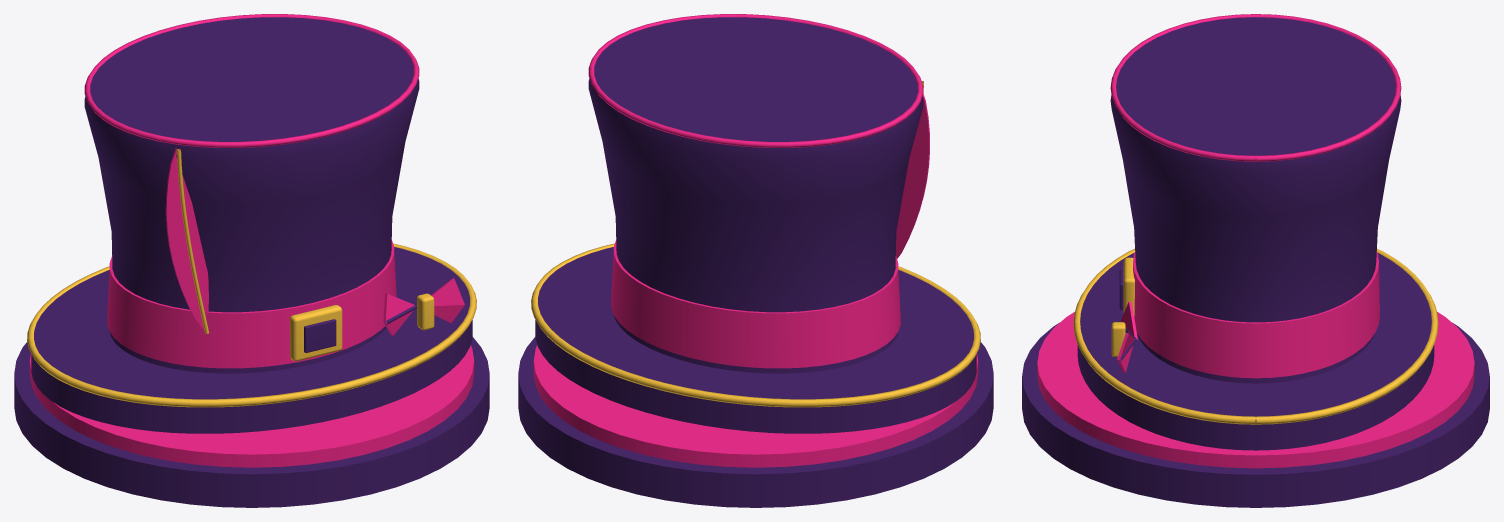
File: desk.hat.top-hat.glb
3 views of the same model, side by side, from view 1: azimuth 30°, elevation 25°; view 2: azimuth 150°, elevation 25°; view 3: azimuth 270°, elevation 25° (orthographic).
Parts seen in each view (by area): view 1: silk_crown, rolled_brim, stand_base, stand_trim, satin_hatband, brim_binding, crown_bound_seam, feather_vane, hatband_buckle, grosgrain_bow.001, buckle_inset, feather_quill (+2 smaller); view 2: silk_crown, rolled_brim, stand_base, satin_hatband, stand_trim, brim_binding, crown_bound_seam, feather_vane; view 3: silk_crown, rolled_brim, stand_base, stand_trim, satin_hatband, brim_binding, crown_bound_seam, hatband_buckle.
Boxes of the visible parts, box(x1,y1,x2,y2) form: silk_crown: box(84, 17, 419, 373); rolled_brim: box(31, 247, 472, 433); stand_base: box(14, 337, 489, 507); stand_trim: box(29, 345, 474, 467); satin_hatband: box(107, 240, 396, 368); brim_binding: box(27, 243, 476, 407); crown_bound_seam: box(84, 14, 419, 147); feather_vane: box(165, 148, 208, 330); hatband_buckle: box(290, 305, 342, 361); grosgrain_bow.001: box(431, 278, 464, 322); buckle_inset: box(304, 319, 336, 352); feather_quill: box(177, 149, 208, 334); silk_crown: box(588, 17, 923, 373); rolled_brim: box(535, 247, 976, 433); stand_base: box(518, 337, 993, 507); satin_hatband: box(611, 240, 900, 368); stand_trim: box(533, 345, 978, 467); brim_binding: box(531, 243, 980, 407); crown_bound_seam: box(588, 14, 923, 147); feather_vane: box(896, 94, 929, 258); silk_crown: box(1110, 17, 1401, 383); rolled_brim: box(1077, 252, 1434, 450); stand_base: box(1022, 323, 1489, 507); stand_trim: box(1037, 312, 1474, 468); satin_hatband: box(1133, 251, 1379, 378); brim_binding: box(1073, 248, 1438, 424); crown_bound_seam: box(1110, 14, 1401, 161); hatband_buckle: box(1123, 257, 1134, 316).
Bounding box in the file's own units: 0.48 × 0.3664 × 0.48.
